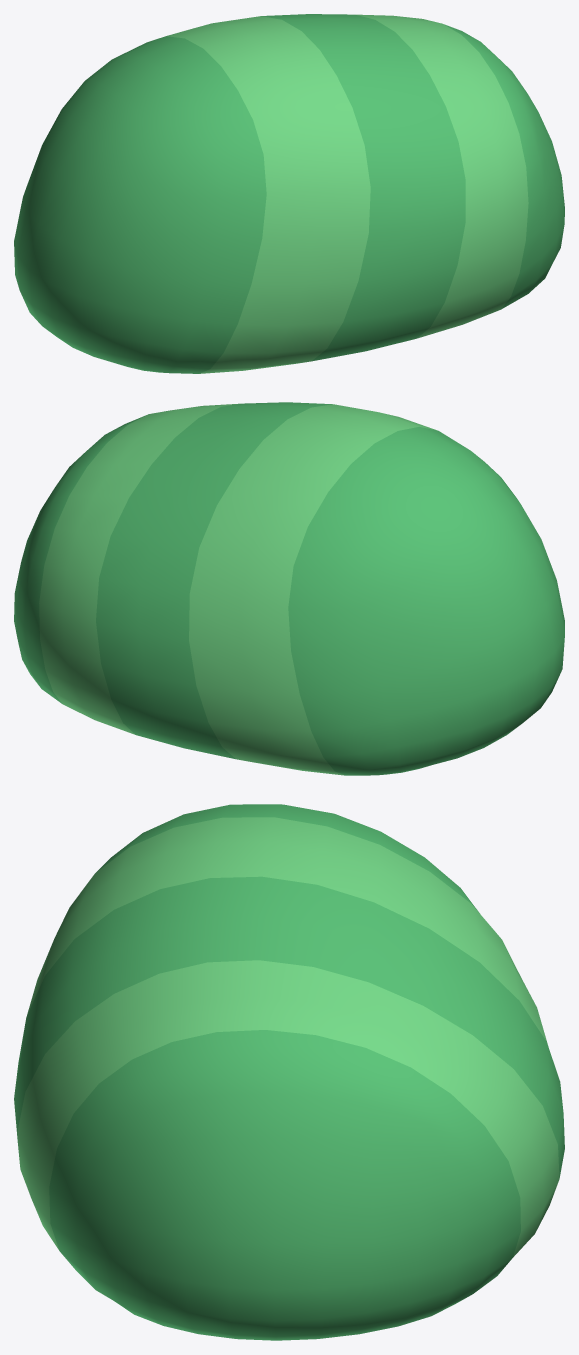
The model's file is Bush_E_02.fbx.
3 renders of one model, top to bottom at view 1: azimuth 30°, elevation 25°; view 2: azimuth 150°, elevation 25°; view 3: azimuth 270°, elevation 25°, orthographic. The views are drawn at different scales.
Parts seen in each view (by area): view 1: Bush_E_02_LOD0; view 2: Bush_E_02_LOD0; view 3: Bush_E_02_LOD0.
Boxes of the visible parts, bbox=[...] form: Bush_E_02_LOD0: bbox=[14, 14, 564, 373]; Bush_E_02_LOD0: bbox=[14, 402, 564, 775]; Bush_E_02_LOD0: bbox=[14, 804, 564, 1340].
Size of what is drawn, in the model's own units: 676 by 358 by 509.
